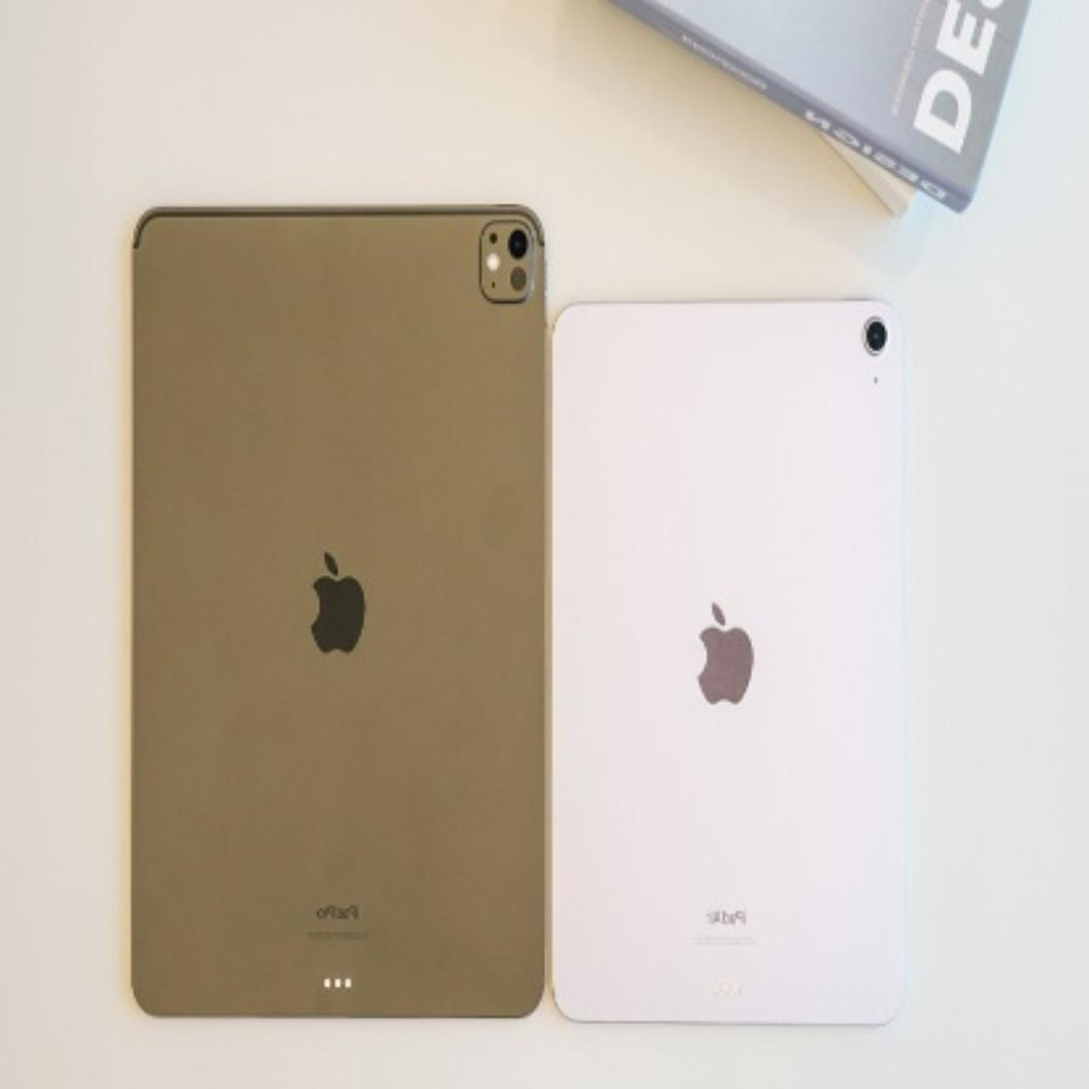Tablet_PC: (123, 194, 552, 1031), (545, 285, 908, 1039)
